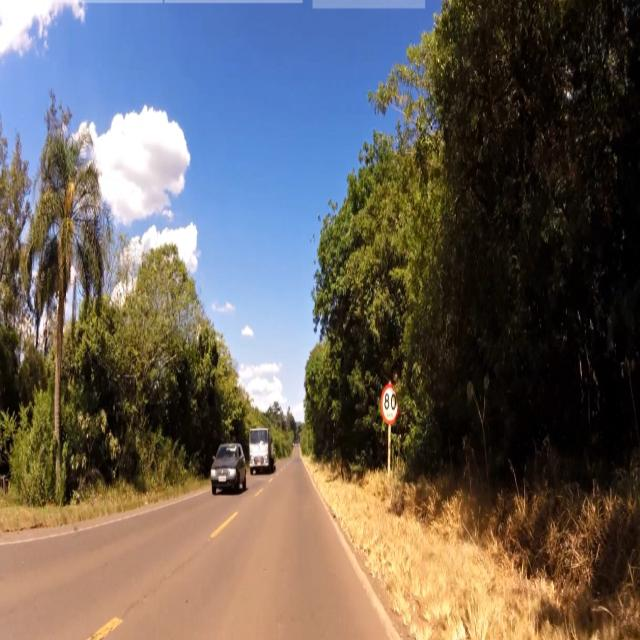R-19: (380, 383, 402, 426)
